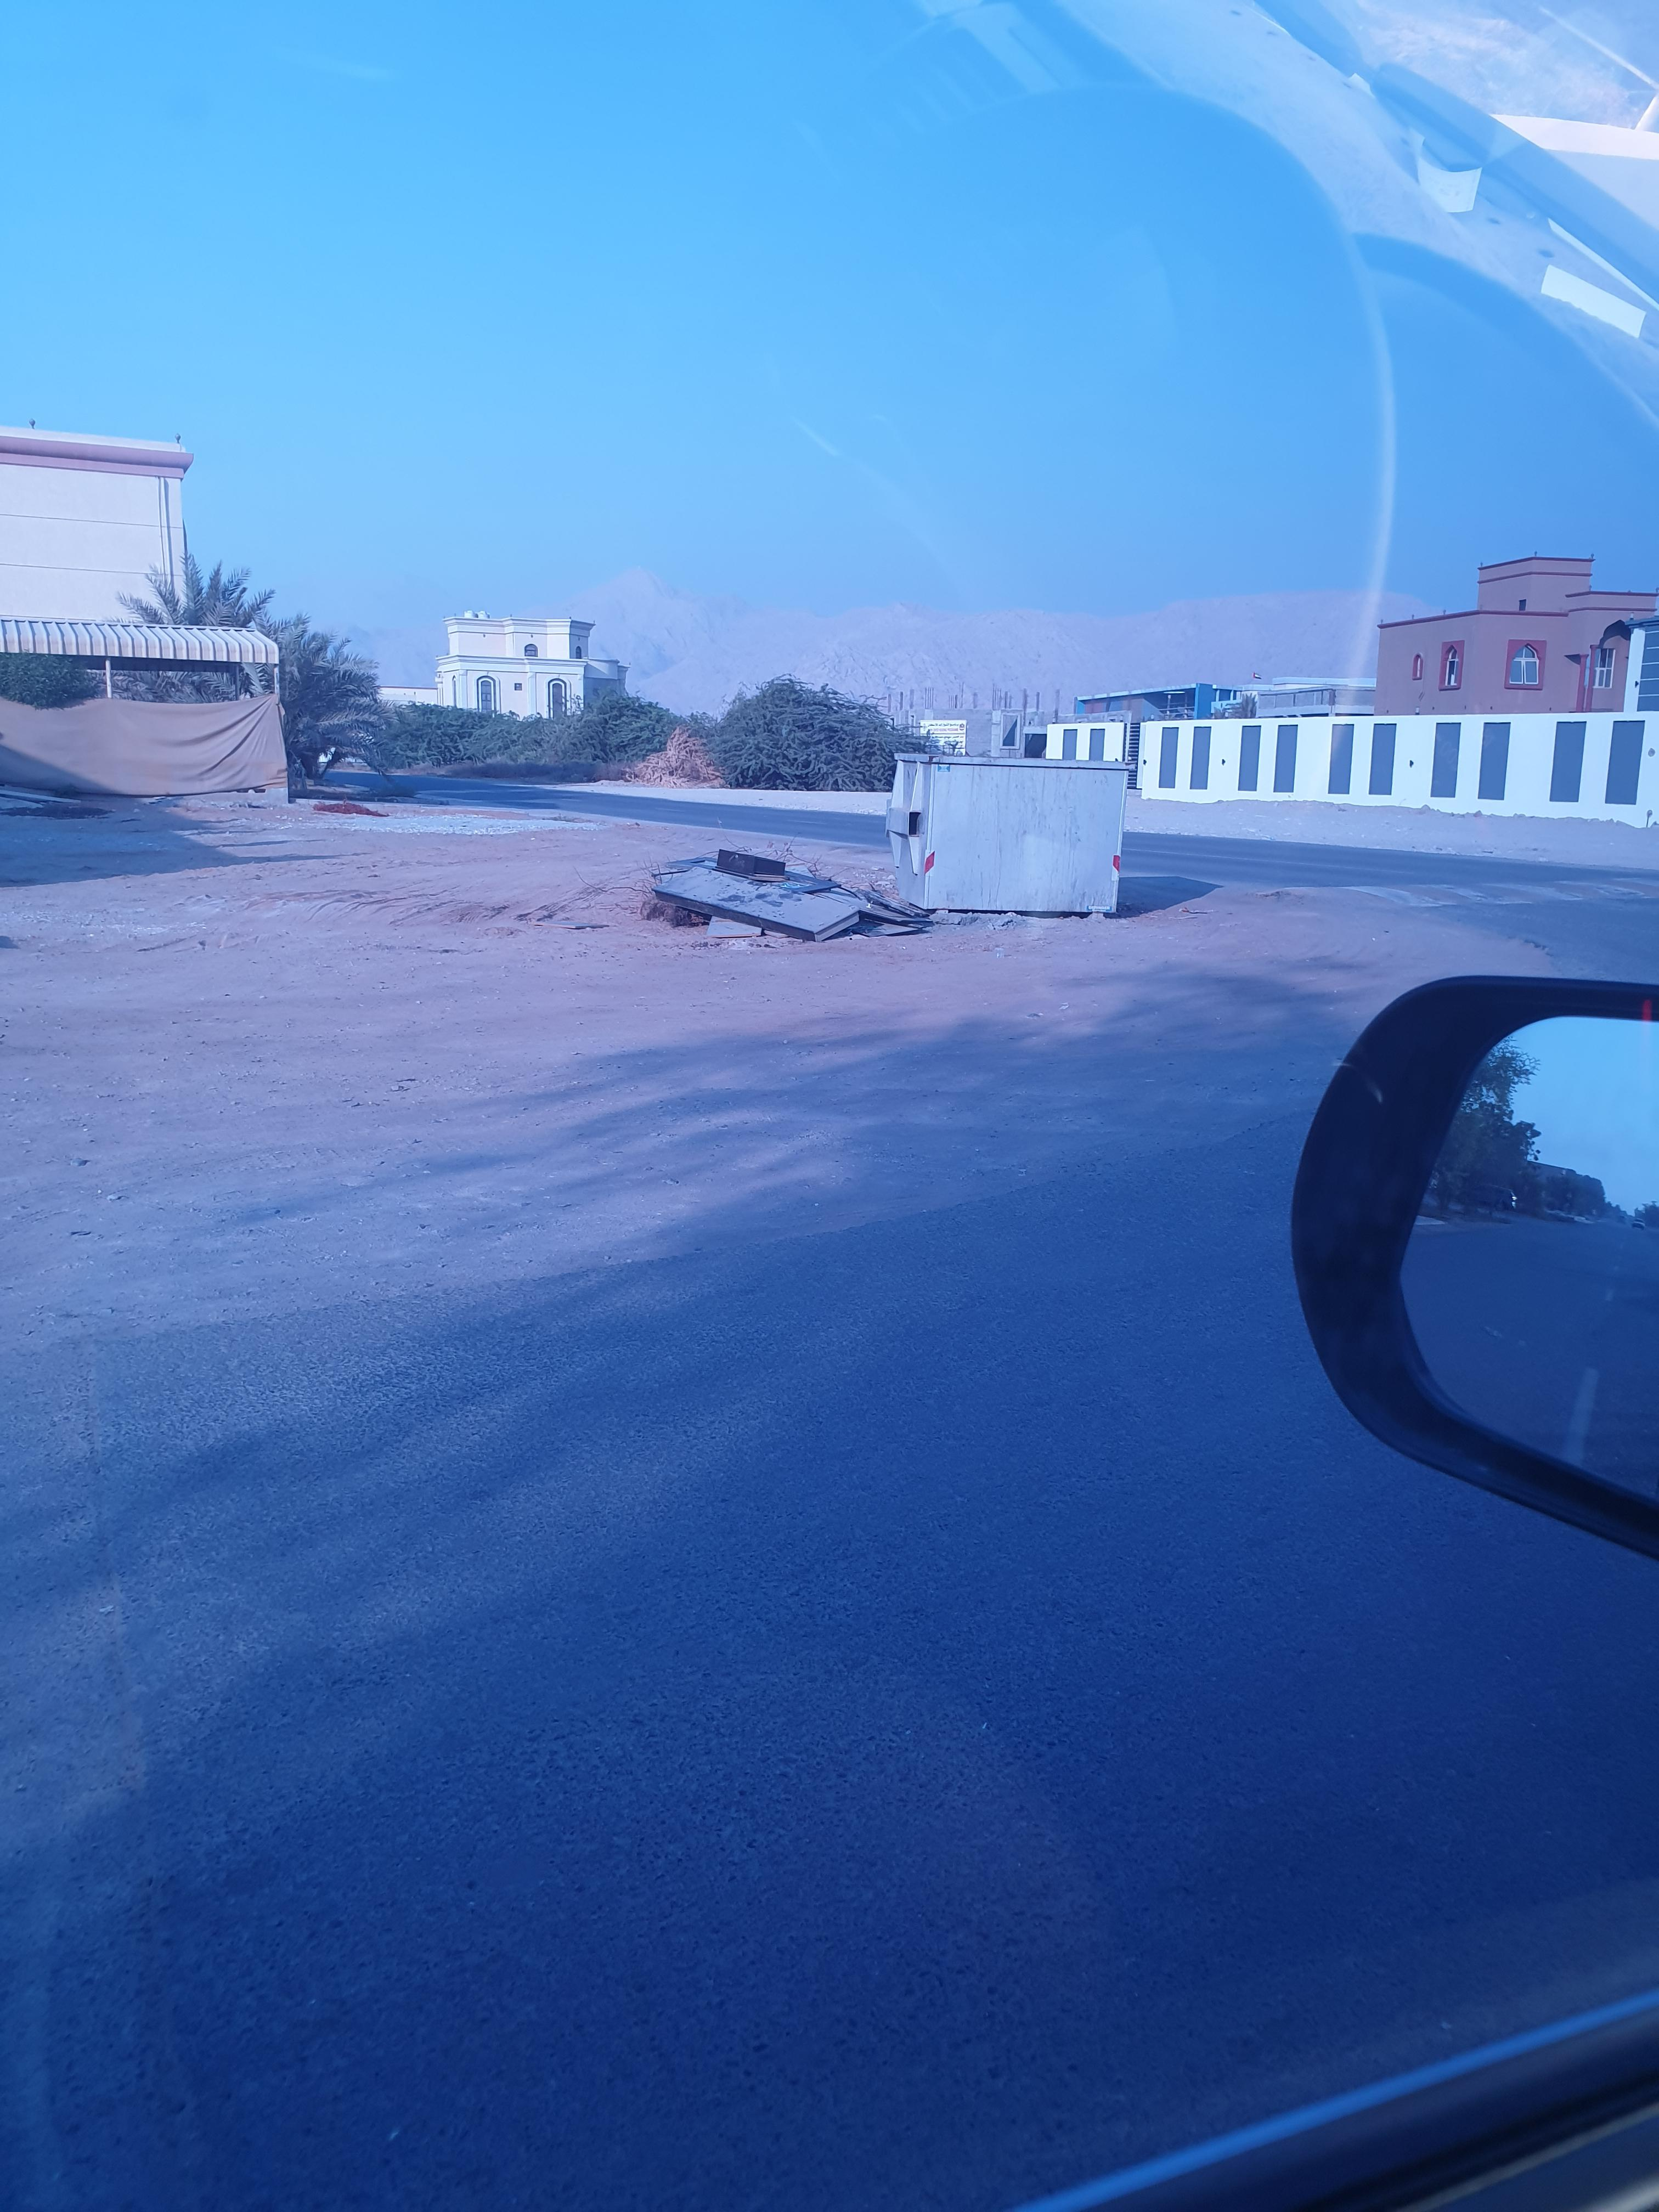uncollected_waste: (648, 834, 934, 961), (617, 860, 847, 951), (676, 817, 835, 937), (762, 892, 906, 975)
